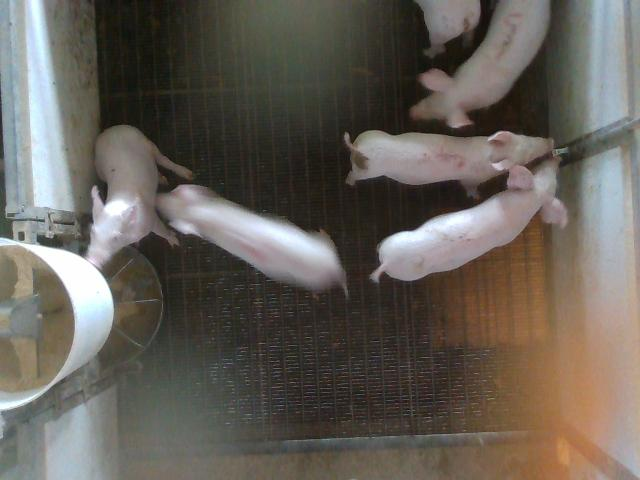pig-3: (410, 0, 550, 128)
pig-5: (344, 130, 552, 196)
